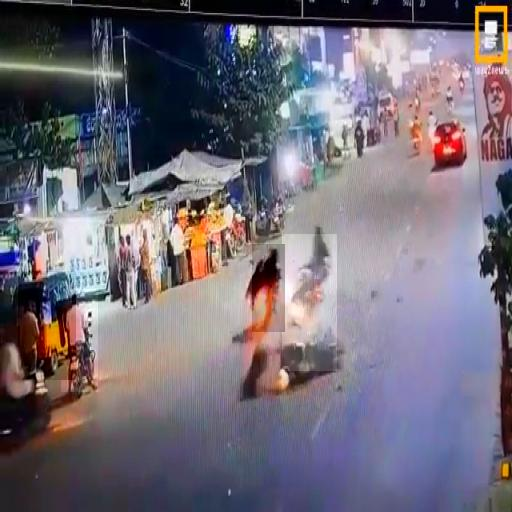小汽车: (18, 271, 76, 380), (434, 120, 468, 166)
自行车: (61, 289, 98, 392), (252, 244, 285, 332)
自行车撞自行车: (282, 234, 337, 371)
